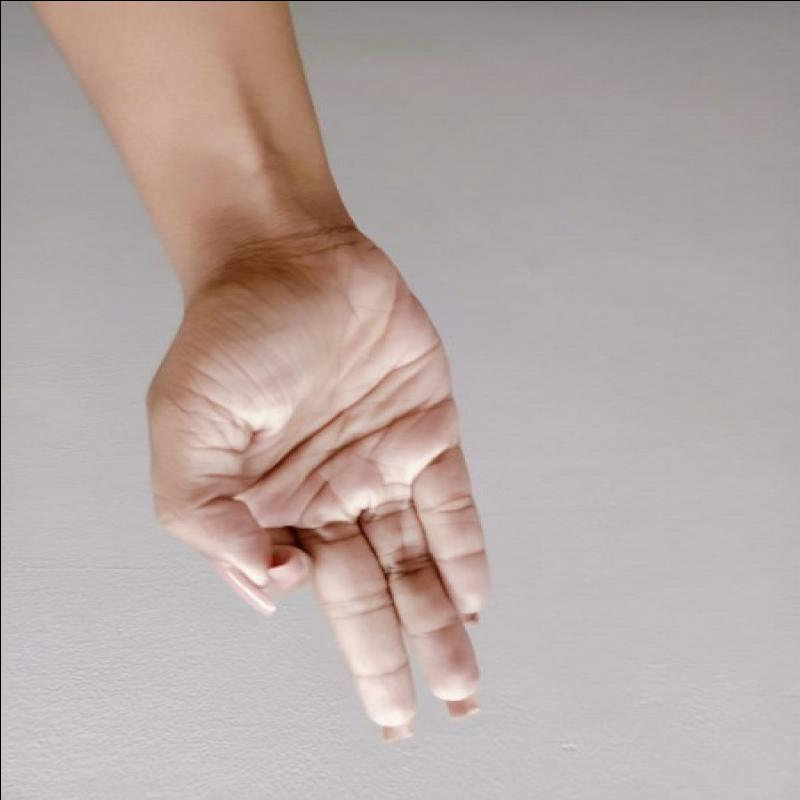Mudraakhyam: (130, 228, 519, 756)
